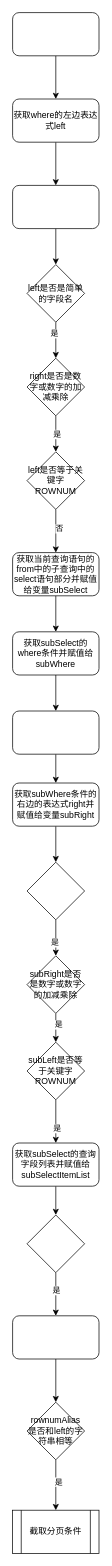
This 112x1566 diagram has some shape labels left out. The shapes that lost their labels are listed below. From the top down, each one's centre as x and y in pixels, then its label:
At pixel 55 34: "获取当前查询语句的的where条件并赋值给变量where".
At pixel 55 207: "获取where条件的右边的表达式right".
At pixel 55 732: "获取subWhere的左边表达式left并赋值给变量subLeft".
At pixel 55 890: "subLeft是否是简单的字段名".
At pixel 55 1243: "subSelectItemList中是否有ROWNUM字段".
At pixel 55 1337: "获取ROWNUM字段的别名并赋值给变量rownumAlias".
